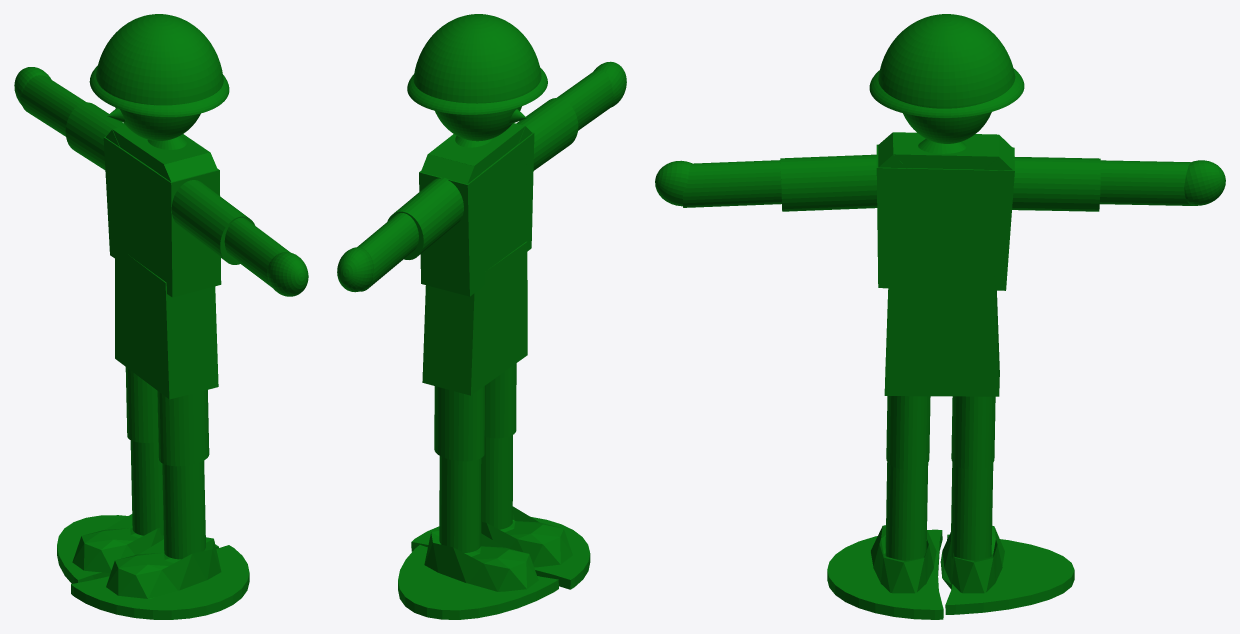
File: toysoldierPLAYER.dae
The picture shows the model from 3 angles, left to right: view 1: azimuth 30°, elevation 25°; view 2: azimuth 150°, elevation 25°; view 3: azimuth 270°, elevation 25°; orthographic projection. The views are drawn at different scales.
Visible parts, largest first — view 1: Cube, Cone.002, Cube.001, Cylinder.008, Icosphere.001, Cylinder.007, Cylinder.006, Cylinder.009, Cylinder.002, Icosphere.006, Cylinder.001, Cylinder.005 (+5 smaller); view 2: Cube, Cone.002, Cube.001, Cylinder, Icosphere.006, Cylinder.002, Cylinder.004, Cylinder.001, Icosphere.001, Cylinder.007, Cylinder.009, Cylinder.003 (+5 smaller); view 3: Cube, Cone.002, Cube.001, Cylinder, Cylinder.009, Cylinder.008, Cylinder.001, Cylinder.005, Cylinder.003, Cylinder.002, Cylinder.007, Cylinder.006 (+5 smaller).
Boxes of the visible parts, left/top/right/bottom form: Cube: left=103, top=126, right=221, bottom=297; Cone.002: left=89, top=14, right=229, bottom=140; Cube.001: left=115, top=253, right=218, bottom=399; Cylinder.008: left=71, top=545, right=249, bottom=619; Icosphere.001: left=106, top=537, right=221, bottom=598; Cylinder.007: left=162, top=460, right=205, bottom=559; Cylinder.006: left=157, top=390, right=209, bottom=466; Cylinder.009: left=171, top=180, right=254, bottom=264; Cylinder.002: left=130, top=440, right=163, bottom=535; Icosphere.006: left=72, top=514, right=163, bottom=573; Cylinder.001: left=65, top=102, right=125, bottom=169; Cylinder.005: left=224, top=218, right=290, bottom=287; Cube: left=419, top=123, right=534, bottom=296; Cone.002: left=407, top=14, right=547, bottom=141; Cube.001: left=422, top=241, right=527, bottom=395; Cylinder: left=398, top=545, right=558, bottom=619; Icosphere.006: left=424, top=531, right=538, bottom=591; Cylinder.002: left=439, top=456, right=481, bottom=552; Cylinder.004: left=434, top=386, right=484, bottom=461; Cylinder.001: left=387, top=177, right=463, bottom=259; Icosphere.001: left=481, top=506, right=572, bottom=567; Cylinder.007: left=481, top=435, right=512, bottom=529; Cylinder.009: left=516, top=98, right=578, bottom=170; Cylinder.003: left=357, top=213, right=418, bottom=291; Cube: left=876, top=132, right=1014, bottom=290; Cone.002: left=869, top=14, right=1024, bottom=143; Cube.001: left=884, top=276, right=999, bottom=396; Cylinder: left=945, top=534, right=1074, bottom=614; Cylinder.009: left=780, top=154, right=877, bottom=211; Cylinder.008: left=827, top=529, right=943, bottom=619; Cylinder.001: left=1012, top=157, right=1100, bottom=211; Cylinder.005: left=682, top=160, right=781, bottom=207; Cylinder.003: left=1100, top=160, right=1197, bottom=205; Cylinder.002: left=950, top=462, right=993, bottom=560; Cylinder.007: left=885, top=462, right=928, bottom=560; Cylinder.006: left=886, top=396, right=930, bottom=469.
Bounding box in the file's own units: 1.55 × 4.66 × 5.1.
